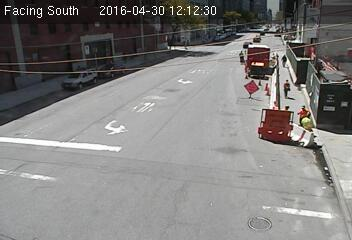neg: (130, 79, 150, 105), (167, 115, 184, 137), (87, 132, 103, 154), (23, 106, 39, 127), (123, 156, 138, 176), (206, 41, 218, 57)
pos: (298, 108, 317, 133), (278, 76, 294, 98), (297, 105, 308, 120), (278, 54, 287, 65)
